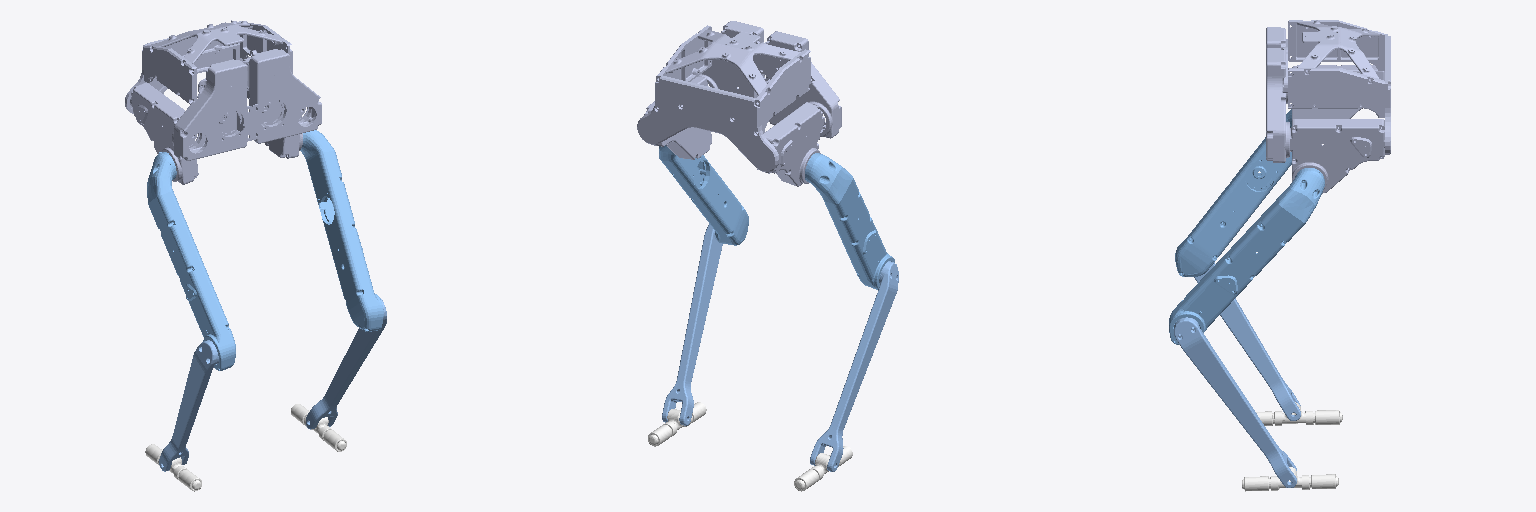
URDF robot description (biped_leg_assembly):
<?xml version="1.0"?>
<robot
  name="biped_leg_assembly">
  <link
    name="base_link">
    <inertial>
      <origin
        xyz="0.00011626 0.016585 0.076327"
        rpy="0 0 0" />
      <mass
        value="0.21534" />
      <inertia
        ixx="0.0002403"
        ixy="7.901E-07"
        ixz="-2.8122E-07"
        iyy="0.00022728"
        iyz="1.6192E-05"
        izz="0.00024445" />
    </inertial>
    <visual>
      <origin
        xyz="0 0 0"
        rpy="0 0 0" />
      <geometry>
        <mesh
          filename="package://robot_model/meshes/base_link.STL" />
      </geometry>
      <material
        name="black">
        <color
          rgba="0.79216 0.81961 0.93333 1" />
      </material>
    </visual>
    <collision>
      <origin
        xyz="0 0 0"
        rpy="0 0 0" />
      <geometry>
        <mesh
          filename="package://robot_model/meshes/base_link.STL" />
      </geometry>
    </collision>
  </link>
  <link
    name="left_upper_leg_link">
    <inertial>
      <origin
        xyz="0.035552 -0.0036366 -0.1514"
        rpy="0 0 0" />
      <mass
        value="0.053524" />
      <inertia
        ixx="0.00026118"
        ixy="-1.1351E-08"
        ixz="1.2791E-05"
        iyy="0.00025707"
        iyz="6.9723E-08"
        izz="1.2837E-05" />
    </inertial>
    <visual>
      <origin
        xyz="0 0 0"
        rpy="0 0 0" />
      <geometry>
        <mesh
          filename="package://robot_model/meshes/left_upper_leg_link.STL" />
      </geometry>
      <material
        name="">
        <color
          rgba="0.61961 0.80784 1 1" />
      </material>
    </visual>
    <collision>
      <origin
        xyz="0 0 0"
        rpy="0 0 0" />
      <geometry>
        <mesh
          filename="package://robot_model/meshes/left_upper_leg_link.STL" />
      </geometry>
    </collision>
  </link>
  <joint
    name="left_hip_joint"
    type="revolute">
    <origin
      xyz="-0.066 -0.058266 0"
      rpy="0.64201 0.12129 3.1416" />
    <parent
      link="base_link" ></parent>
    <child
      link="left_upper_leg_link"></child>
    <axis
      xyz="0 0.80089 -0.59881" />
    <limit
      lower="-0.80"
      upper="0.80"
      effort="30"
      velocity="7.0" />
  </joint>
  <link
    name="left_lower_leg_link">
    <inertial>
      <origin
        xyz="0.00072445 4.1617E-08 -0.088854"
        rpy="0 0 0" />
      <mass
        value="0.05012" />
      <inertia
        ixx="0.00021025"
        ixy="-2.9024E-11"
        ixz="-3.2316E-06"
        iyy="0.00020971"
        iyz="-7.1259E-11"
        izz="2.9328E-06" />
    </inertial>
    <visual>
      <origin
        xyz="0 0 0"
        rpy="0 0 0" />
      <geometry>
        <mesh
          filename="package://robot_model/meshes/left_lower_leg_link.STL" />
      </geometry>
      <material
        name="">
        <color
          rgba="0.66667 0.81569 1 1" />
      </material>
    </visual>
    <collision>
      <origin
        xyz="0 0 0"
        rpy="0 0 0" />
      <geometry>
        <mesh
          filename="package://robot_model/meshes/left_lower_leg_link.STL" />
      </geometry>
    </collision>
  </link>
  <joint
    name="left_knee_joint"
    type="revolute">
    <origin
      xyz="0.0594 -0.0035963 -0.24737"
      rpy="1.1856 0 -3.1416" />
    <parent
      link="left_upper_leg_link" ></parent>
    <child
      link="left_lower_leg_link" ></child>
    <axis
      xyz="0 0 0" />
    <limit
      lower="-0.8"
      upper="0.8"
      effort="30"
      velocity="7" />
  </joint>
  <link
    name="left_foot_link">
    <inertial>
      <origin
        xyz="-0.00034747 0.00093313 -0.047"
        rpy="0 0 0" />
      <mass
        value="0.016594" />
      <inertia
        ixx="8.2029E-06"
        ixy="3.6892E-08"
        ixz="2.1122E-11"
        iyy="8.1176E-06"
        iyz="1.1158E-11"
        izz="5.507E-07" />
    </inertial>
    <visual>
      <origin
        xyz="0 0 0"
        rpy="0 0 0" />
      <geometry>
        <mesh
          filename="package://robot_model/meshes/left_foot_link.STL" />
      </geometry>
      <material
        name="">
        <color
          rgba="1 1 1 1" />
      </material>
    </visual>
    <collision>
      <origin
        xyz="0 0 0"
        rpy="0 0 0" />
      <geometry>
        <mesh
          filename="package://robot_model/meshes/left_foot_link.STL" />
      </geometry>
    </collision>
  </link>
  <joint
    name="left_ankle"
    type="revolute">
    <origin
      xyz="0 0.036703 -0.23043"
      rpy="2.1229 0.30696 -2.9575" />
    <parent
      link="left_lower_leg_link"></parent>
    <child
      link="left_foot_link"></child>
    <axis
      xyz="0 0 0" />
    <limit
      lower="0"
      upper="0"
      effort="0"
      velocity="0" />
  </joint>
  <link
    name="Right_upper_leg_link">
    <inertial>
      <origin
        xyz="0.035552 0.0054901 -0.15124"
        rpy="0 0 0" />
      <mass
        value="0.053524" />
      <inertia
        ixx="0.00026118"
        ixy="-1.1405E-08"
        ixz="1.2793E-05"
        iyy="0.00025707"
        iyz="6.9296E-08"
        izz="1.2831E-05" />
    </inertial>
    <visual>
      <origin
        xyz="0 0 0"
        rpy="0 0 0" />
      <geometry>
        <mesh
          filename="package://robot_model/meshes/Right_upper_leg_link.STL" />
      </geometry>
      <material
        name="">
        <color
          rgba="0.61961 0.80784 1 1" />
      </material>
    </visual>
    <collision>
      <origin
        xyz="0 0 0"
        rpy="0 0 0" />
      <geometry>
        <mesh
          filename="package://robot_model/meshes/Right_upper_leg_link.STL" />
      </geometry>
    </collision>
  </link>
  <joint
    name="right_thigh_joint"
    type="revolute">
    <origin
      xyz="0.066 -0.058224 0"
      rpy="-0.68361 0.082811 0" />
    <parent
      link="base_link" ></parent>
    <child
      link="Right_upper_leg_link" ></child>
    <axis
      xyz="0 0.7753 0.6316" />
    <limit
      lower="0"
      upper="0"
      effort="0"
      velocity="0" />
  </joint>
  <link
    name="right_lower_leg_link">
    <inertial>
      <origin
        xyz="0.00072445 5.6551E-08 -0.088854"
        rpy="0 0 0" />
      <mass
        value="0.05012" />
      <inertia
        ixx="0.00021025"
        ixy="-3.0538E-11"
        ixz="-3.2316E-06"
        iyy="0.00020971"
        iyz="-7.5805E-11"
        izz="2.9328E-06" />
    </inertial>
    <visual>
      <origin
        xyz="0 0 0"
        rpy="0 0 0" />
      <geometry>
        <mesh
          filename="package://robot_model/meshes/right_lower_leg_link.STL" />
      </geometry>
      <material
        name="">
        <color
          rgba="0.66667 0.81569 1 1" />
      </material>
    </visual>
    <collision>
      <origin
        xyz="0 0 0"
        rpy="0 0 0" />
      <geometry>
        <mesh
          filename="package://robot_model/meshes/right_lower_leg_link.STL" />
      </geometry>
    </collision>
  </link>
  <joint
    name="right_knee_joint"
    type="revolute">
    <origin
      xyz="0.0594 0.0055303 -0.2472"
      rpy="-1.2419 0 3.1416" />
    <parent
      link="Right_upper_leg_link" ></parent>
    <child
      link="right_lower_leg_link" ></child>
    <axis
      xyz="0 0 0" />
    <limit
      lower="0"
      upper="0"
      effort="0"
      velocity="0" />
  </joint>
  <link
    name="right_foot_link">
    <inertial>
      <origin
        xyz="3.6595E-05 0.00099507 -0.047"
        rpy="0 0 0" />
      <mass
        value="0.016594" />
      <inertia
        ixx="8.2165E-06"
        ixy="-4.134E-09"
        ixz="2.0007E-11"
        iyy="8.104E-06"
        iyz="1.0372E-12"
        izz="5.507E-07" />
    </inertial>
    <visual>
      <origin
        xyz="0 0 0"
        rpy="0 0 0" />
      <geometry>
        <mesh
          filename="package://robot_model/meshes/right_foot_link.STL" />
      </geometry>
      <material
        name="">
        <color
          rgba="1 1 1 1" />
      </material>
    </visual>
    <collision>
      <origin
        xyz="0 0 0"
        rpy="0 0 0" />
      <geometry>
        <mesh
          filename="package://robot_model/meshes/right_foot_link.STL" />
      </geometry>
    </collision>
  </link>
  <joint
    name="right_ankle_join"
    type="revolute">
    <origin
      xyz="0 0.044703 -0.18343"
      rpy="1.0469 -0.031773 -3.1232" />
    <parent
      link="right_lower_leg_link" ></parent>
    <child
      link="right_foot_link" ></child>
    <axis
      xyz="0 0 0" />
    <limit
      lower="0"
      upper="0"
      effort="0"
      velocity="0" />
  </joint>

</robot>

--- Facts derived from the render (not from the file) ---
The picture shows the robot from 3 angles, left to right: view 1: azimuth 30°, elevation 25°; view 2: azimuth 150°, elevation 25°; view 3: azimuth 270°, elevation 25°; orthographic projection.
Robot: biped_leg_assembly — 7 links, 6 joints (6 revolute); root link base_link; default pose: all joints at 0.
Visible links, largest first — view 1: base_link, Right_upper_leg_link, left_upper_leg_link, left_lower_leg_link, right_lower_leg_link, right_foot_link, left_foot_link; view 2: base_link, left_upper_leg_link, Right_upper_leg_link, left_lower_leg_link, right_lower_leg_link, right_foot_link, left_foot_link; view 3: base_link, Right_upper_leg_link, left_upper_leg_link, right_lower_leg_link, left_lower_leg_link, right_foot_link, left_foot_link.
Link boxes in pixels (left/top/right/bottom): base_link: left=125, top=20, right=321, bottom=184; Right_upper_leg_link: left=300, top=130, right=383, bottom=331; left_upper_leg_link: left=147, top=152, right=235, bottom=370; left_lower_leg_link: left=159, top=340, right=218, bottom=471; right_lower_leg_link: left=306, top=297, right=386, bottom=429; right_foot_link: left=291, top=404, right=346, bottom=451; left_foot_link: left=145, top=444, right=201, bottom=491; base_link: left=637, top=21, right=841, bottom=186; left_upper_leg_link: left=805, top=153, right=894, bottom=289; Right_upper_leg_link: left=659, top=145, right=748, bottom=245; left_lower_leg_link: left=810, top=261, right=898, bottom=471; right_lower_leg_link: left=662, top=224, right=722, bottom=425; right_foot_link: left=648, top=402, right=706, bottom=446; left_foot_link: left=794, top=446, right=852, bottom=491; base_link: left=1266, top=20, right=1390, bottom=193; Right_upper_leg_link: left=1169, top=168, right=1324, bottom=344; left_upper_leg_link: left=1175, top=109, right=1291, bottom=276; right_lower_leg_link: left=1174, top=317, right=1296, bottom=487; left_lower_leg_link: left=1194, top=262, right=1300, bottom=420; right_foot_link: left=1242, top=467, right=1338, bottom=491; left_foot_link: left=1256, top=402, right=1342, bottom=425.
Size in the robot's own frame: 0.22 by 0.2286 by 0.4823 metres.
Meshes: 7 distinct files referenced, 7 mesh visuals loaded (7 binary STL).